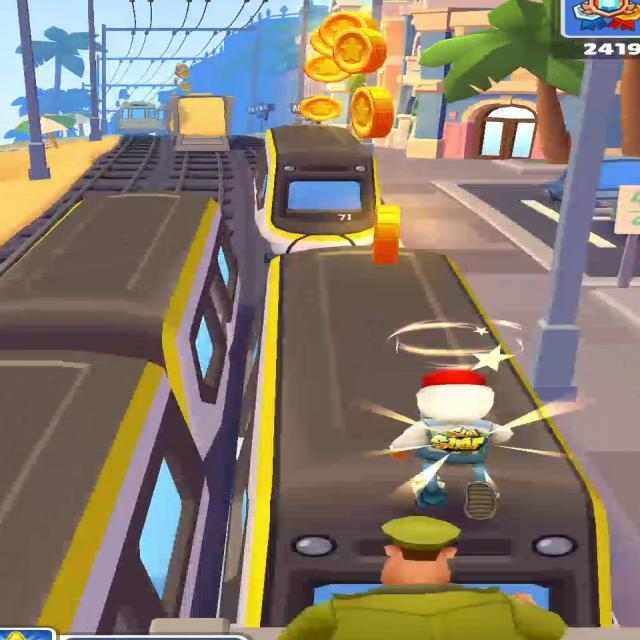climber: (170, 94, 234, 151)
police: (279, 516, 567, 640)
train: (0, 192, 247, 638), (255, 124, 399, 254), (117, 102, 165, 134)
